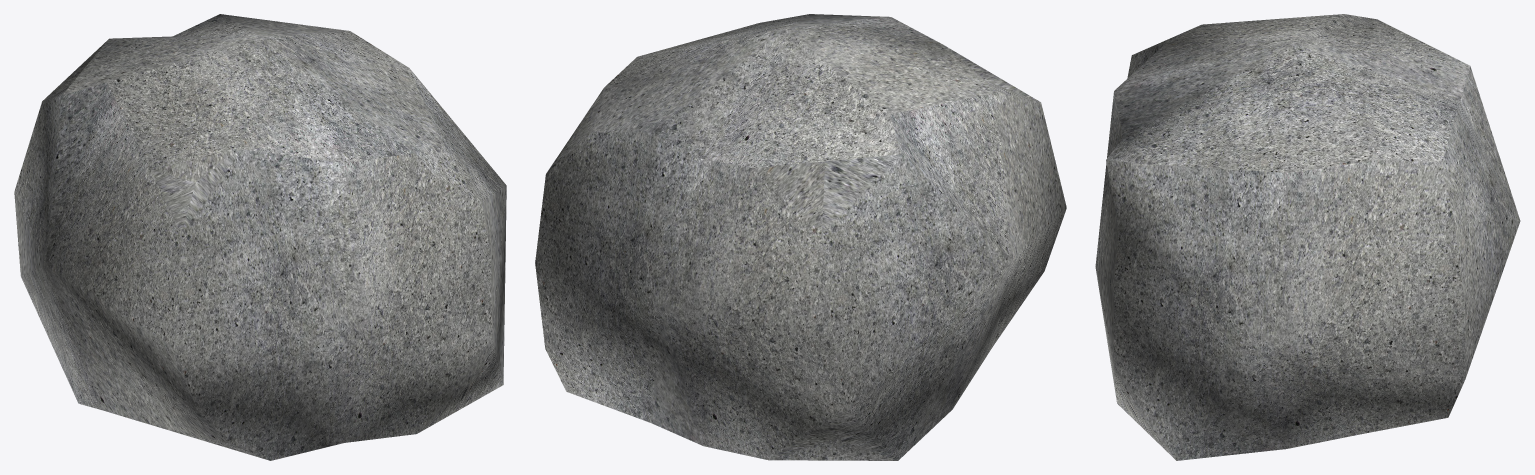
Rendered from Boulder.obj.
3 renders of one model, left to right at view 1: azimuth 30°, elevation 25°; view 2: azimuth 150°, elevation 25°; view 3: azimuth 270°, elevation 25°, orthographic. The views are drawn at different scales.
Parts seen in each view (by area): view 1: Boulder; view 2: Boulder; view 3: Boulder.
Boxes of the visible parts, x1,y1,x2,y2 form: Boulder: (14, 14, 506, 460); Boulder: (535, 14, 1066, 460); Boulder: (1095, 14, 1520, 460).
Bounding box in the file's own units: 0.7644 × 0.6347 × 0.6483.
